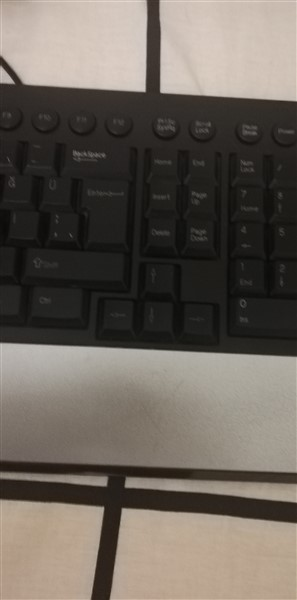klavye: (1, 76, 297, 481)
